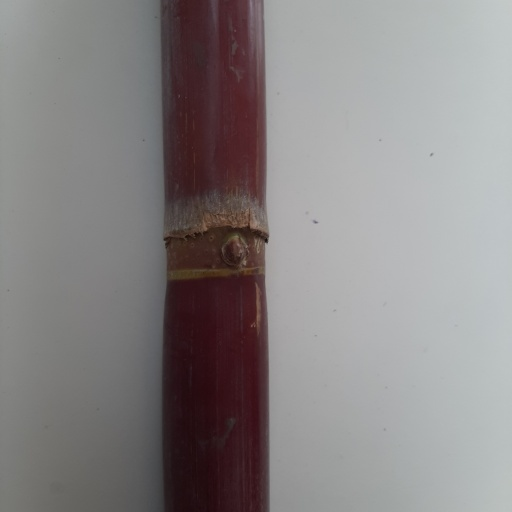Bud: (221, 233, 249, 267)
